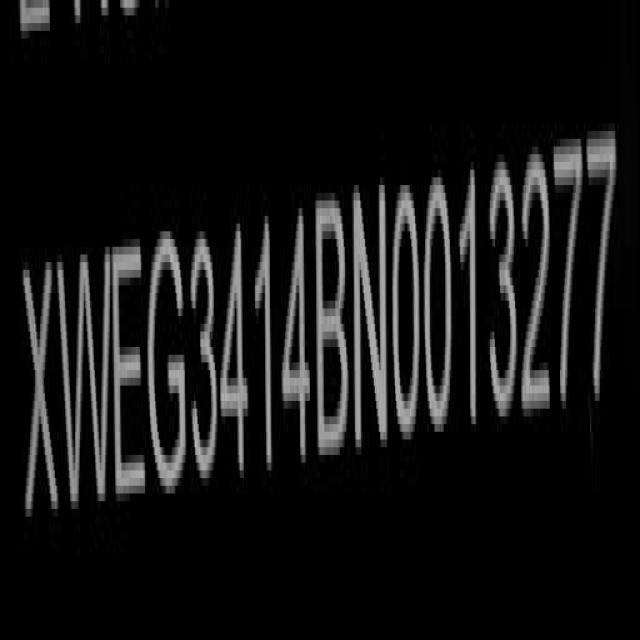0: (426, 164, 454, 443), (395, 180, 423, 450)
1: (462, 163, 480, 442), (256, 209, 274, 483)
2: (523, 146, 552, 428)
3: (490, 154, 520, 436), (192, 228, 220, 497)
4: (284, 202, 314, 480), (221, 219, 250, 490)
7: (590, 119, 620, 421), (553, 128, 583, 425)
B: (317, 188, 348, 472)
E: (114, 239, 147, 514)
G: (148, 229, 185, 505)
N: (354, 179, 390, 460)
W: (61, 244, 110, 528)
X: (22, 257, 58, 537)
